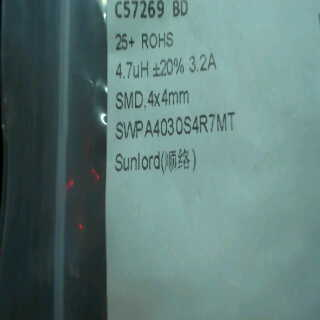4.7uH: (112, 55, 152, 86)
